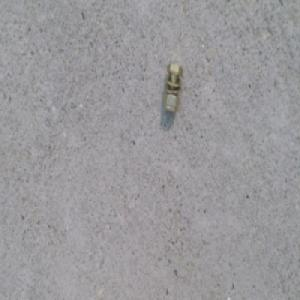BoltNutSet: (159, 65, 183, 115)
